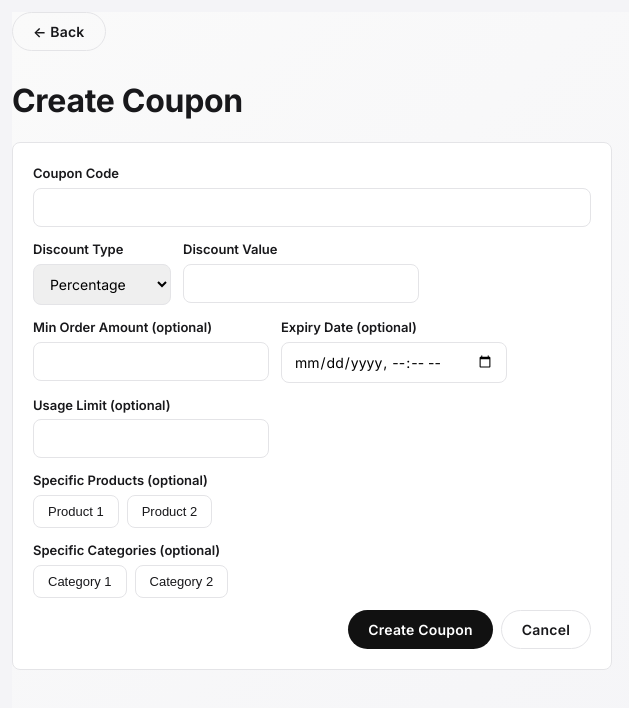
Test: AdminCouponForm › Create Mode › should show error when discount value is empty
Type "SAVE10" into the field below "Coupon Code" at (312, 208), box [33, 188, 591, 227]
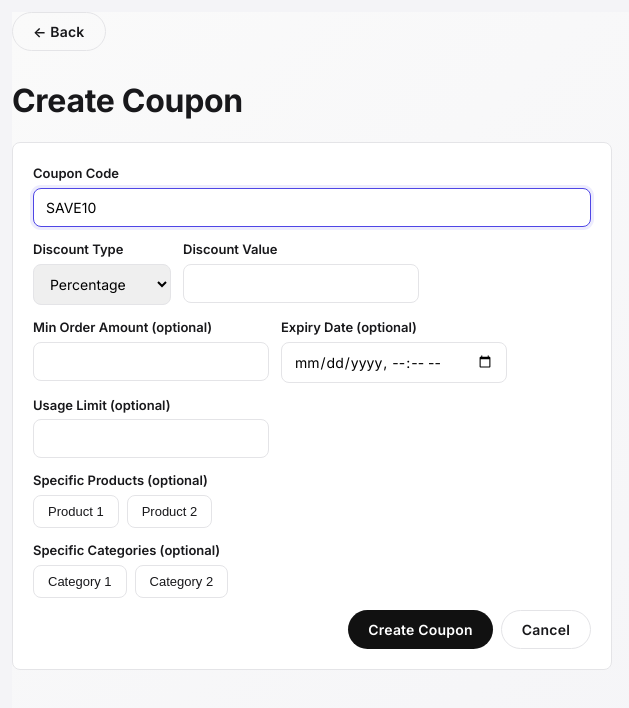
Click the button "Create Coupon" at (421, 630), box [348, 610, 493, 649]
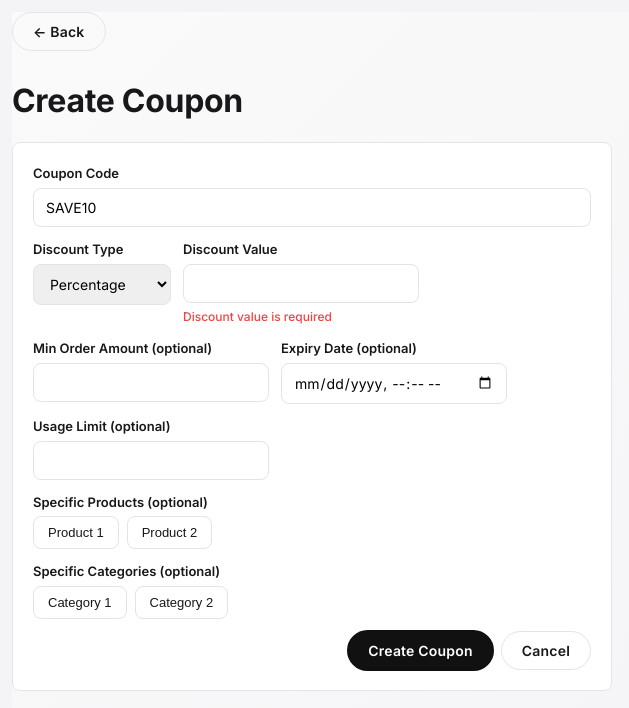
Now the text "Discount value is required" is shown, box [183, 309, 332, 324]
